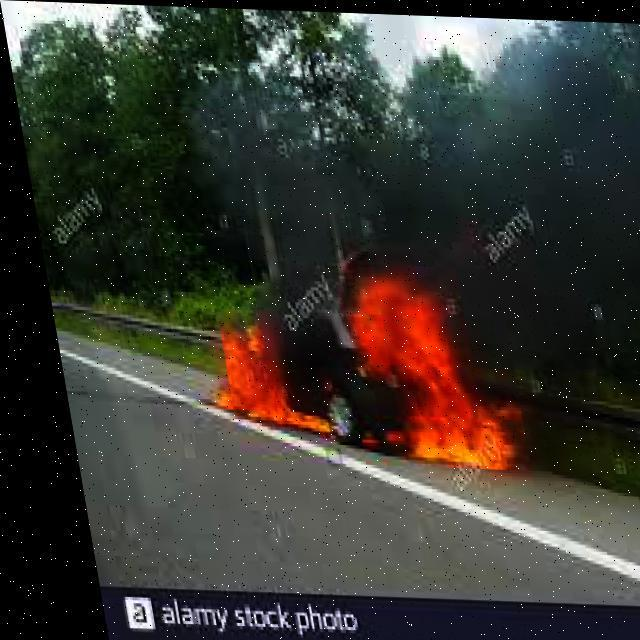Fire: (188, 250, 509, 480)
